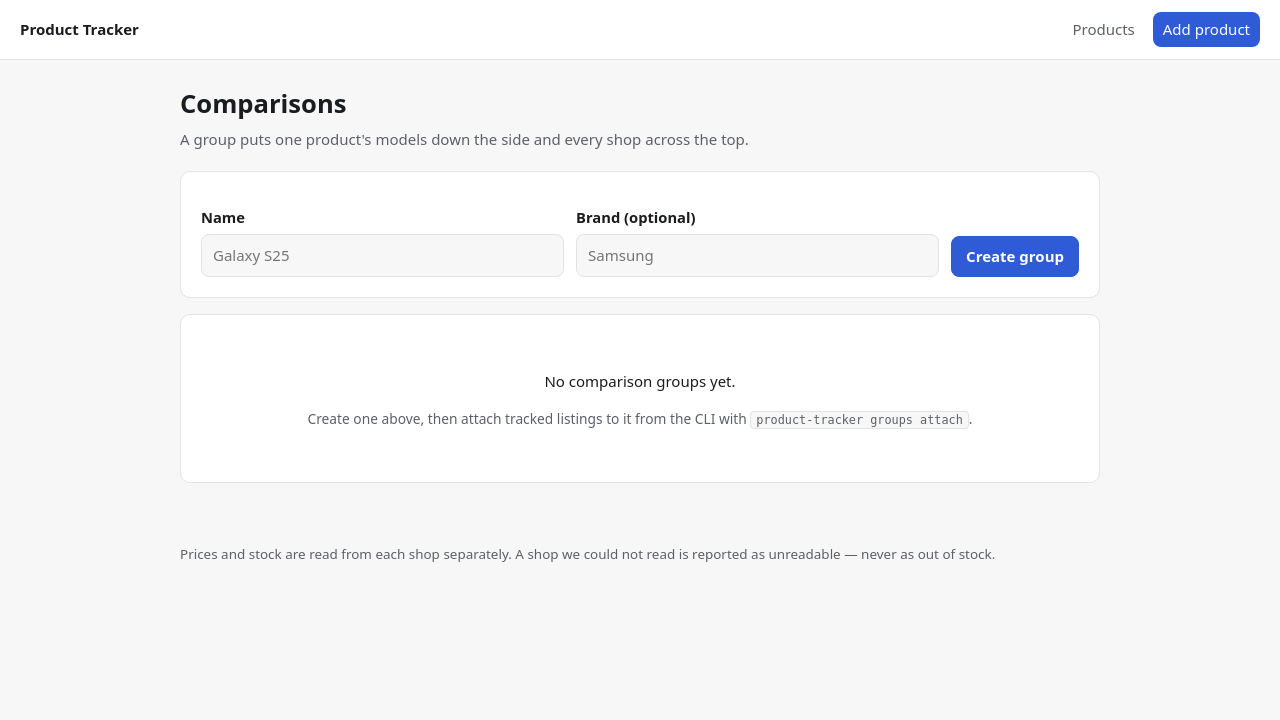
Test: the comparison grid › creating a group adds it to the list
The image size is (1280, 720).
Type "Pixel 10" into the field labelled "Name" at {"x": 382, "y": 256}, box [201,234,564,277]
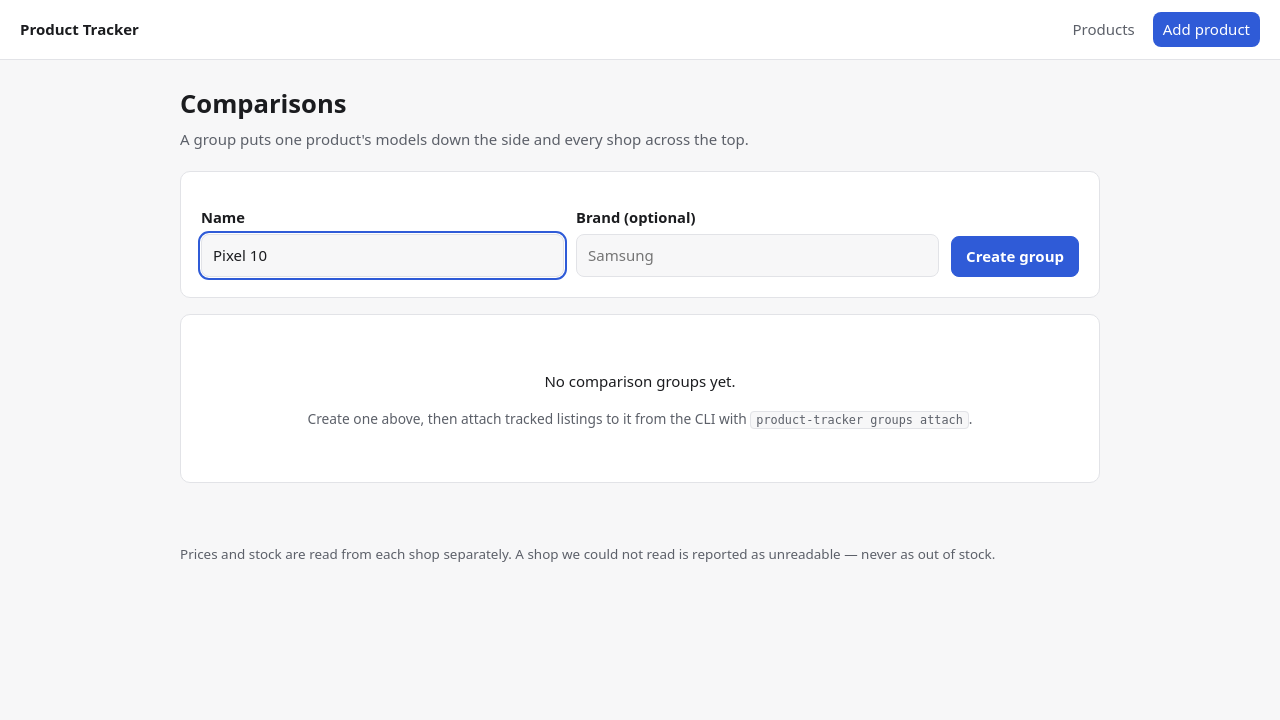
Click the button "Create group" at {"x": 1015, "y": 257}, box [951,236,1079,277]
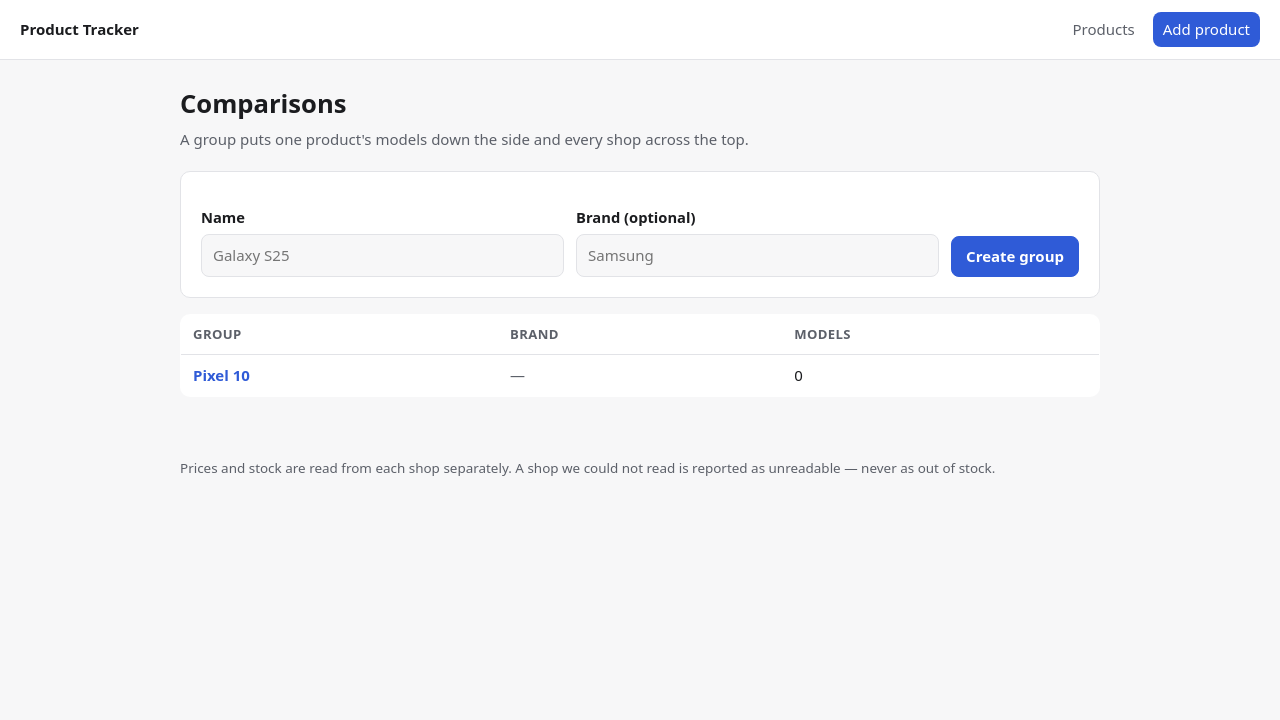
Result: the link "Pixel 10" is shown at [193,365,250,385]
